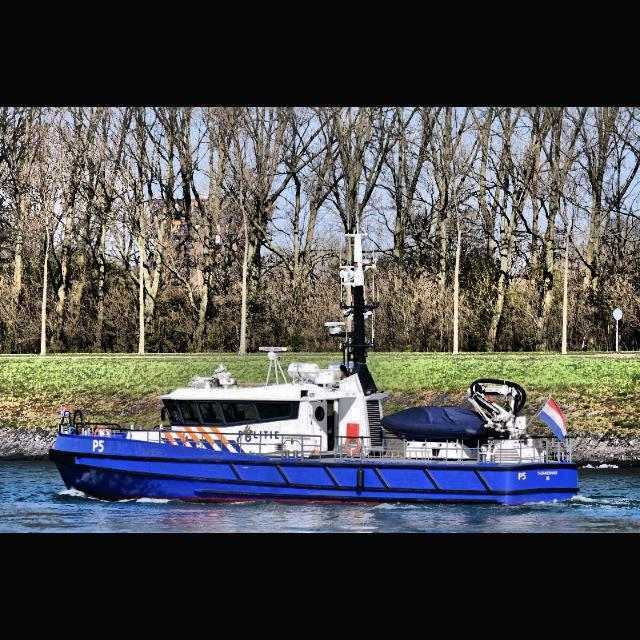patrol_vessel: (46, 225, 582, 507)
